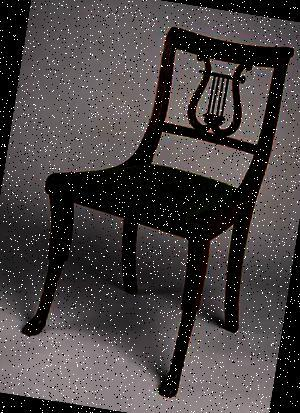Silla: (12, 12, 294, 410)
